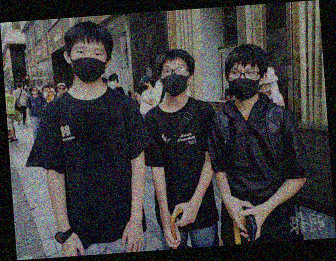mask_weared_incorrect: (258, 82, 271, 96)
with_mask: (68, 44, 108, 83), (227, 65, 260, 101), (159, 64, 188, 97), (140, 81, 149, 91), (107, 79, 116, 88)
without_mask: (56, 84, 65, 96), (29, 86, 38, 96)
